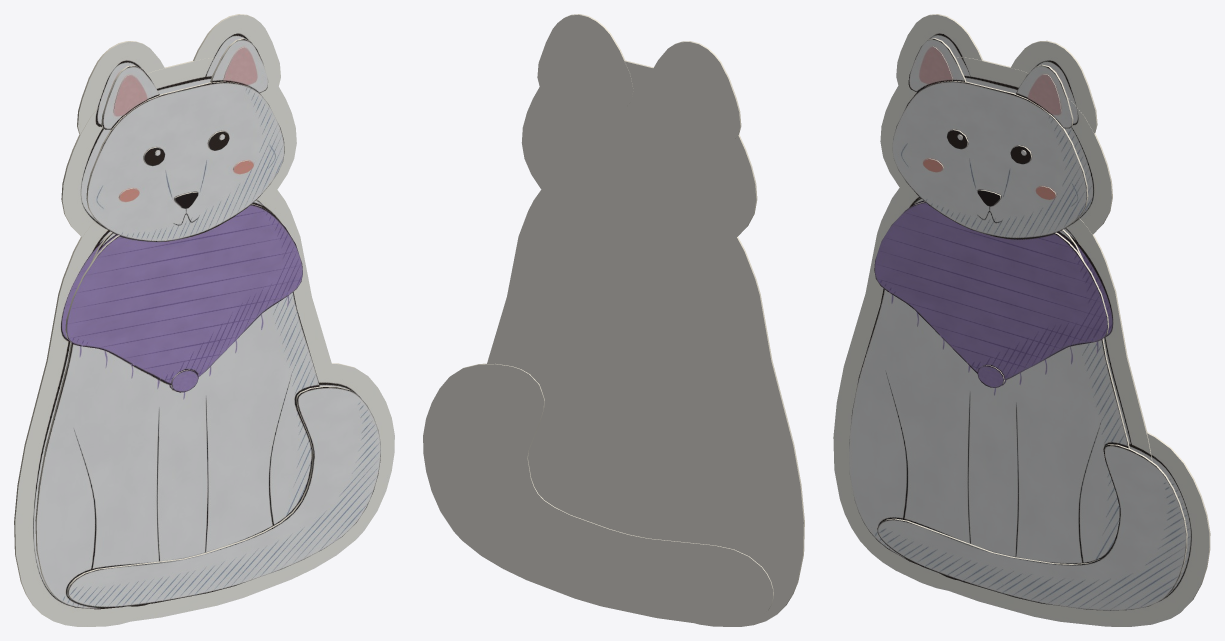
File: fox-DKBAA15d.glb
3 renders of one model, left to right at view 1: azimuth 30°, elevation 25°; view 2: azimuth 150°, elevation 25°; view 3: azimuth 330°, elevation 25°, orthographic.
Parts seen in each view (by area): view 1: fox.001; view 2: fox.001; view 3: fox.001.
Part boxes in pixels (box(x1,y1,x2,y2)): fox.001: box(14, 14, 394, 626); fox.001: box(423, 14, 804, 626); fox.001: box(833, 14, 1210, 626).
Bounding box in the file's own units: 0.6961 × 1.02 × 0.0288.
3 materials, 1 textured.
